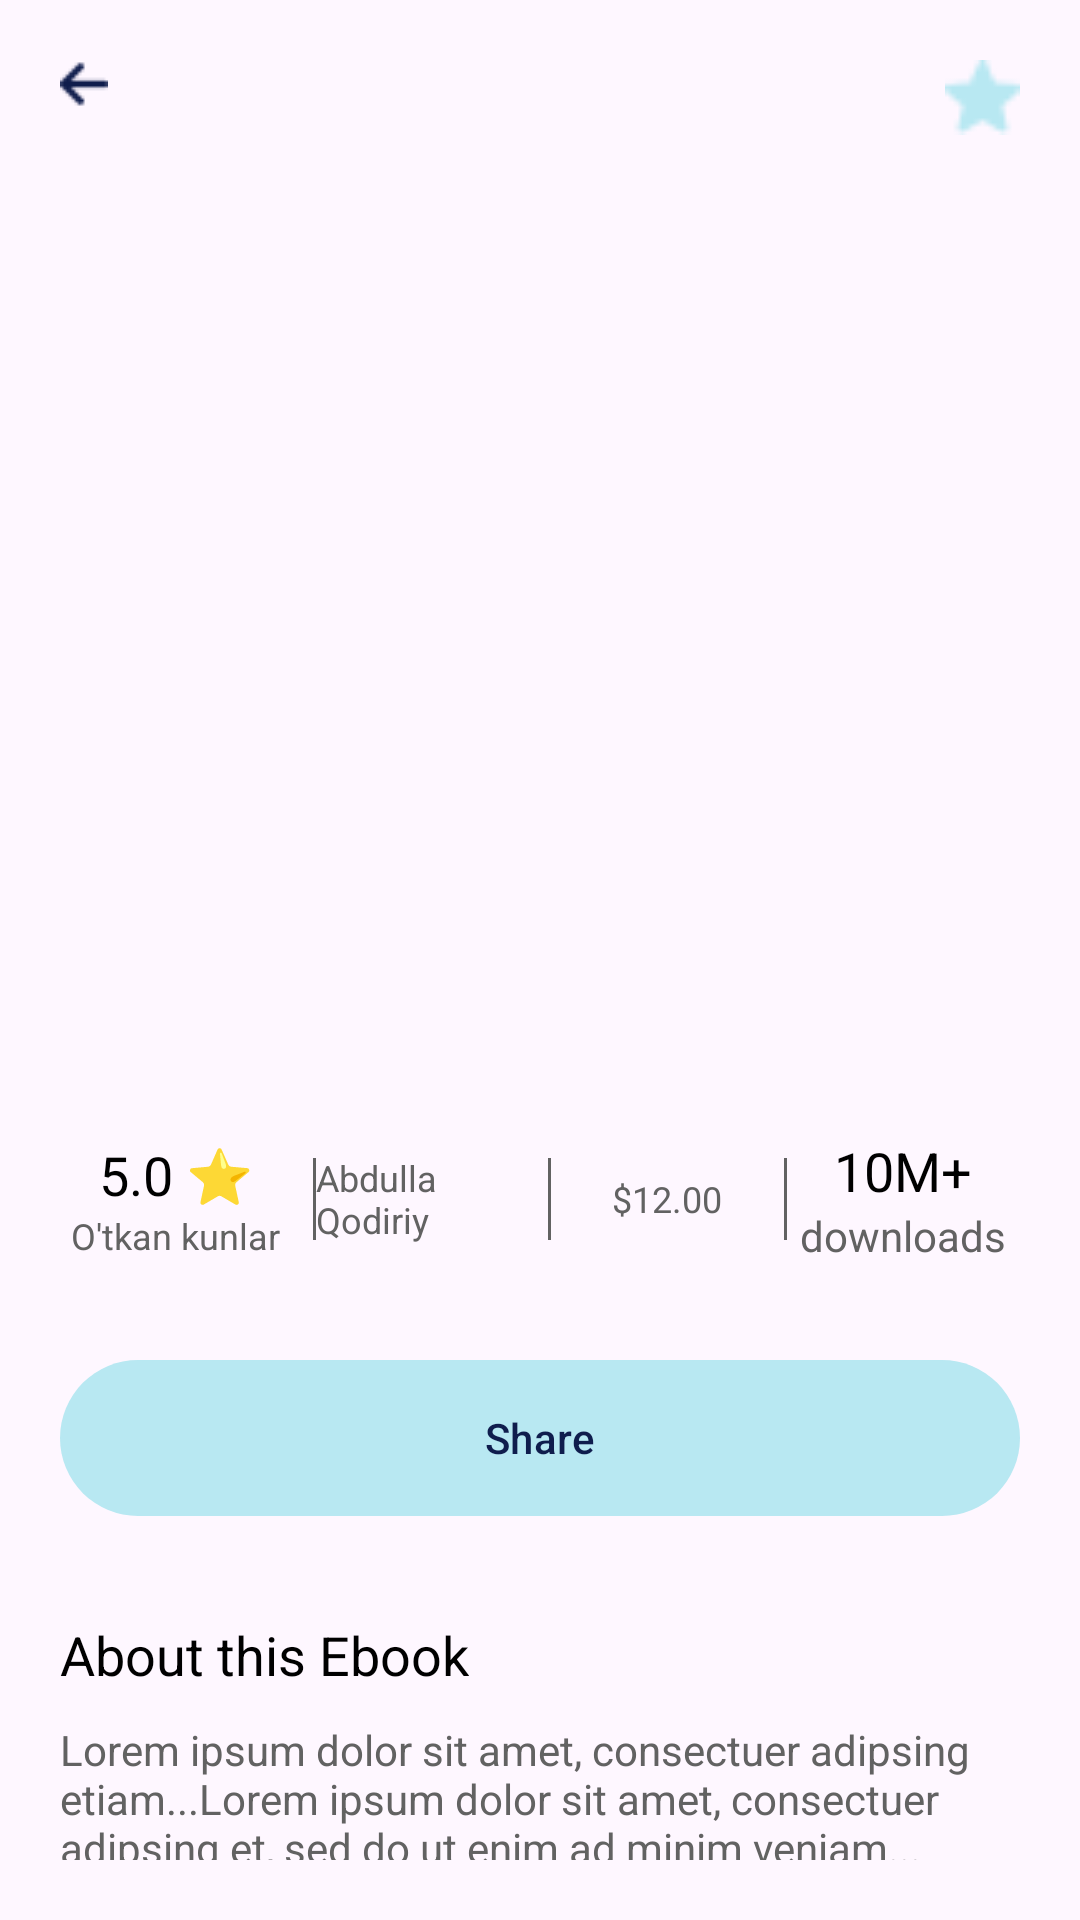

Where icons sit on this 1080w x 1920h app screen, as [x1=x1, y1=y1, x2=x2, y2=y2]:
back: [x1=60, y1=62, x2=108, y2=106]
